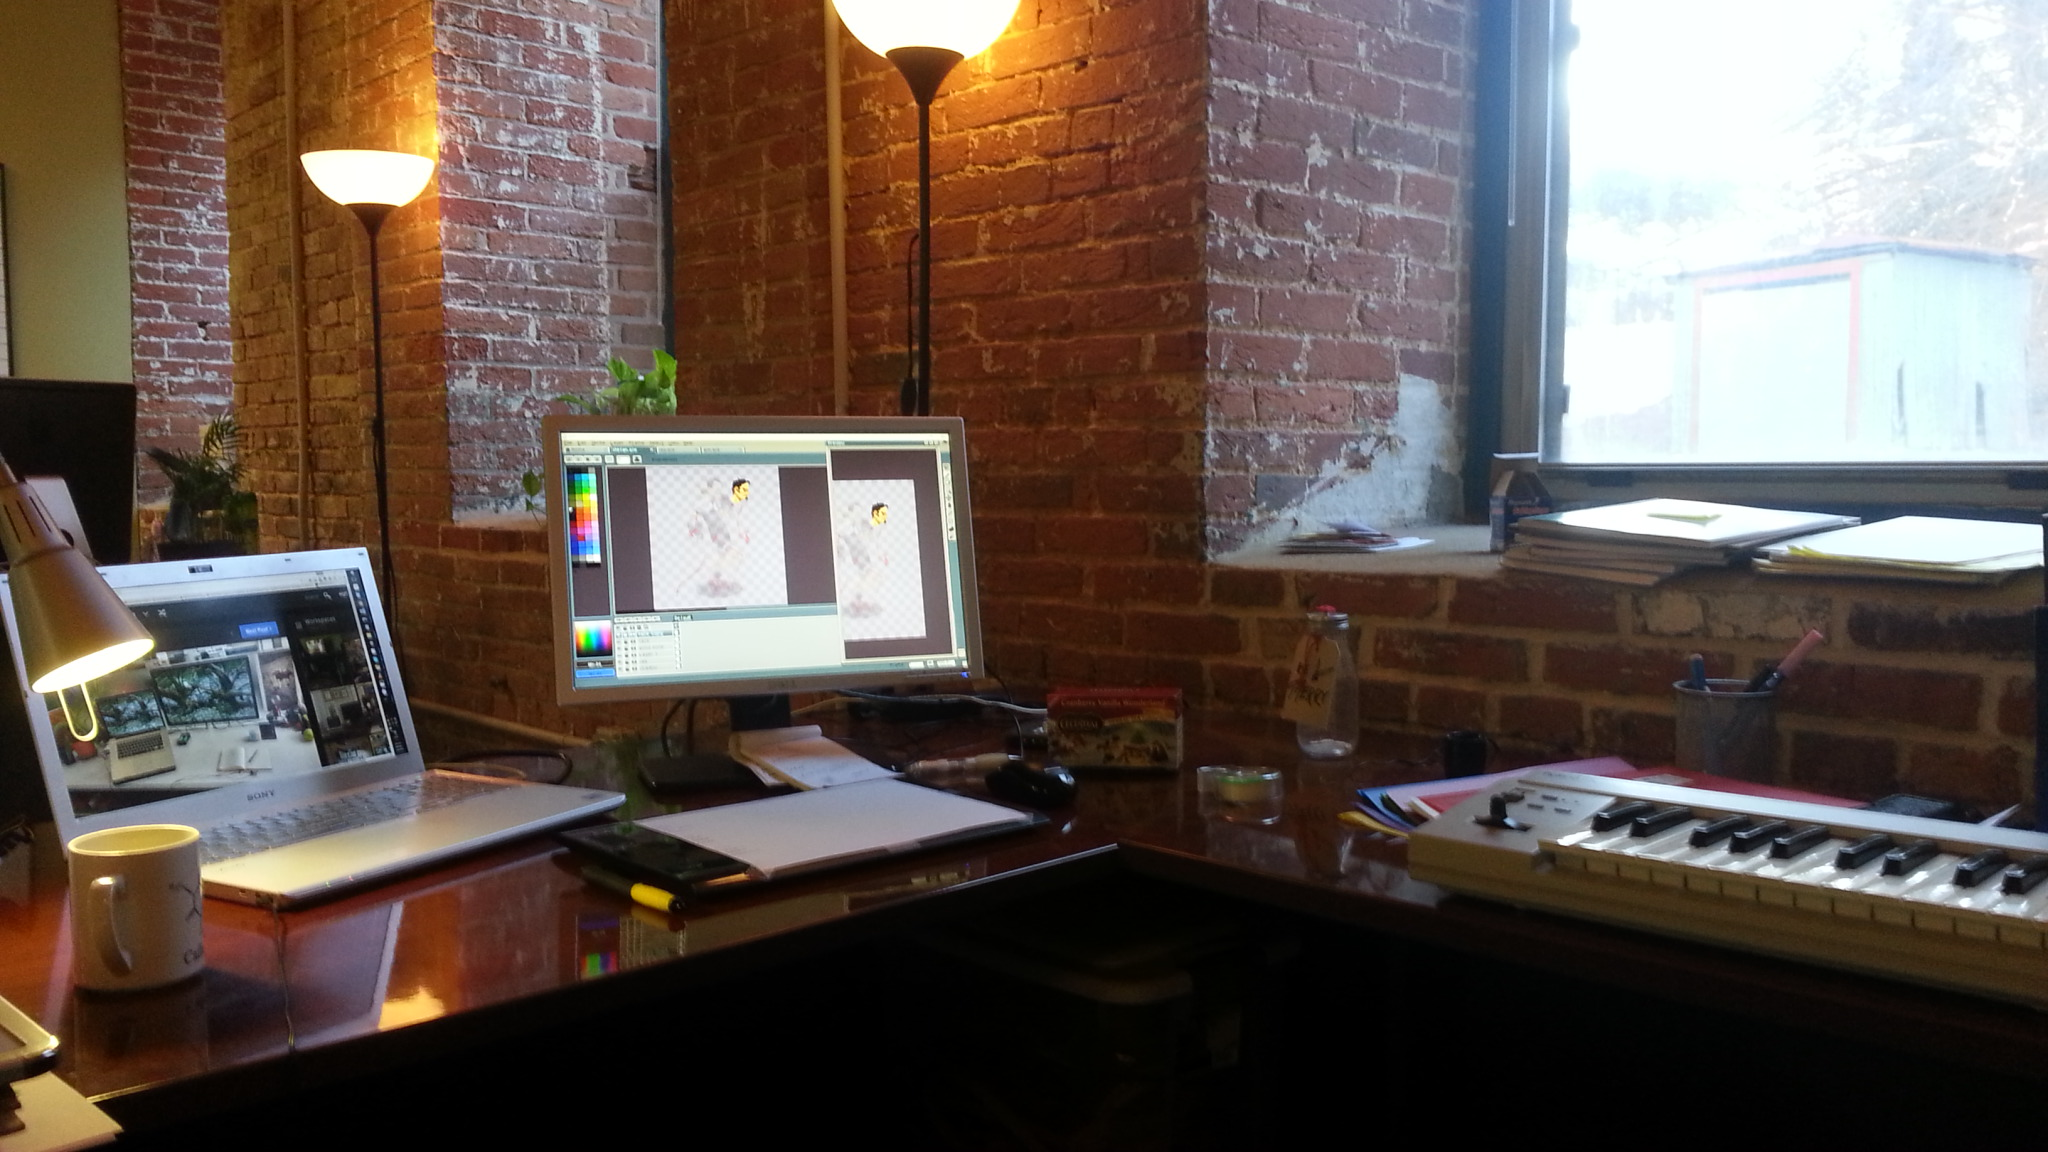Desk (Generic): (1, 700, 2048, 1151)
Lamp (Desk): (1, 461, 156, 726)
Lamp (Floor): (830, 1, 1025, 415), (300, 146, 439, 689)
Laptop (Generic): (1, 542, 625, 911)
Monitor (Landscape): (535, 407, 992, 712)
Monitor (Laptop): (31, 551, 428, 841)
Mouse (Generic): (983, 748, 1079, 806)
Mug: (65, 821, 205, 992)
Musical Instrument (Keyboard/Piano): (1402, 753, 2047, 987)
